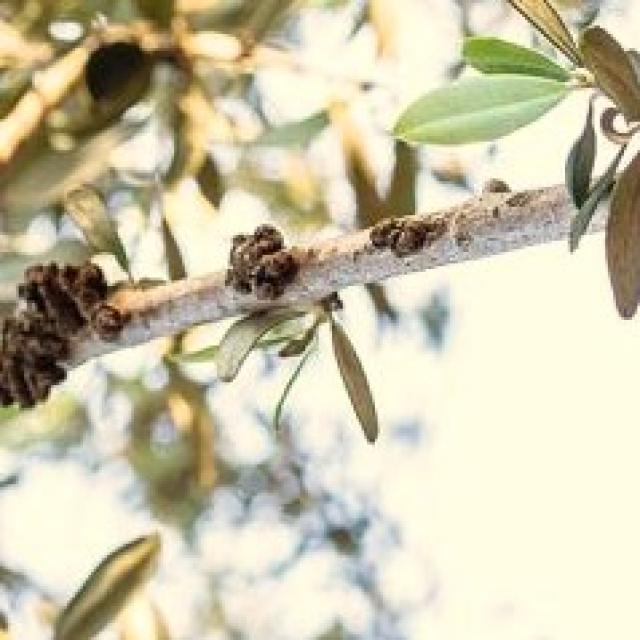Tuberculosis: (0, 263, 125, 413), (225, 224, 297, 297), (370, 215, 434, 255)
